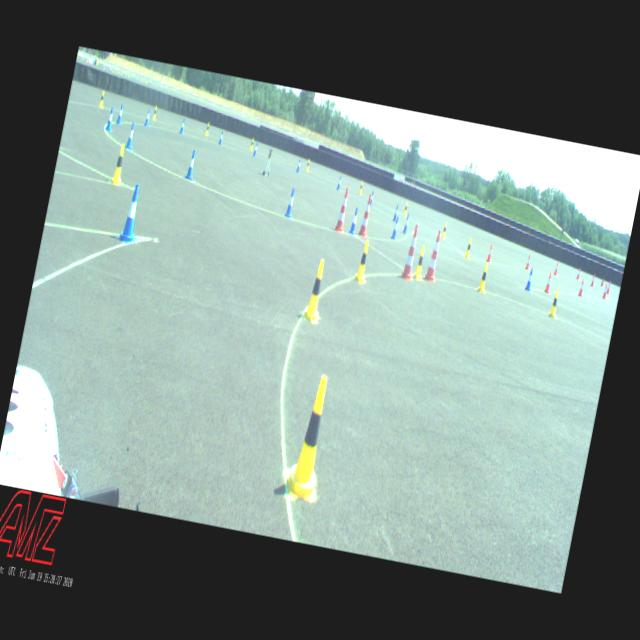blue_cone: (118, 182, 146, 244), (184, 150, 198, 180), (124, 122, 138, 152), (284, 187, 297, 217), (348, 207, 359, 236), (105, 107, 116, 132), (390, 216, 400, 240), (524, 268, 534, 292), (116, 104, 126, 125), (402, 213, 411, 235), (178, 118, 188, 136), (144, 108, 152, 126), (392, 204, 400, 222), (252, 142, 260, 157), (368, 190, 375, 207), (218, 131, 225, 146), (336, 176, 343, 190), (296, 159, 302, 173)
large_orange_cone: (399, 223, 422, 280), (423, 230, 445, 283), (334, 187, 352, 233), (357, 195, 374, 239)
orange_cone: (544, 272, 554, 294), (486, 244, 494, 264), (578, 280, 586, 298), (552, 261, 560, 276), (525, 254, 532, 270), (602, 284, 608, 300), (606, 281, 612, 294), (590, 274, 596, 287), (576, 268, 582, 280)
yellow_cone: (282, 372, 340, 503), (302, 258, 330, 322), (352, 240, 374, 286), (109, 144, 129, 186), (413, 245, 428, 280), (476, 262, 491, 295), (548, 290, 561, 320), (464, 238, 473, 260), (98, 90, 106, 108), (441, 222, 448, 240), (402, 202, 409, 218), (152, 106, 159, 121), (358, 180, 364, 196), (306, 158, 312, 172), (205, 122, 211, 136), (250, 138, 256, 151)
